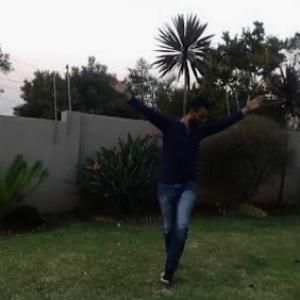takeoff: (115, 81, 268, 284)
